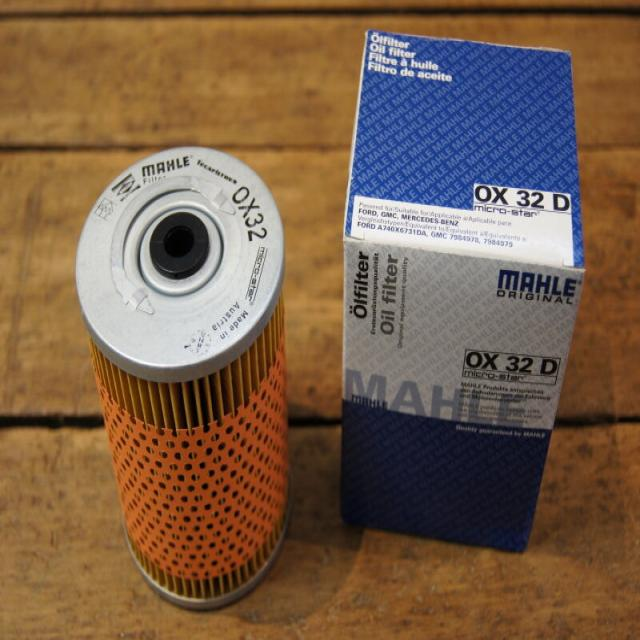oil_filter: (75, 140, 293, 615)
